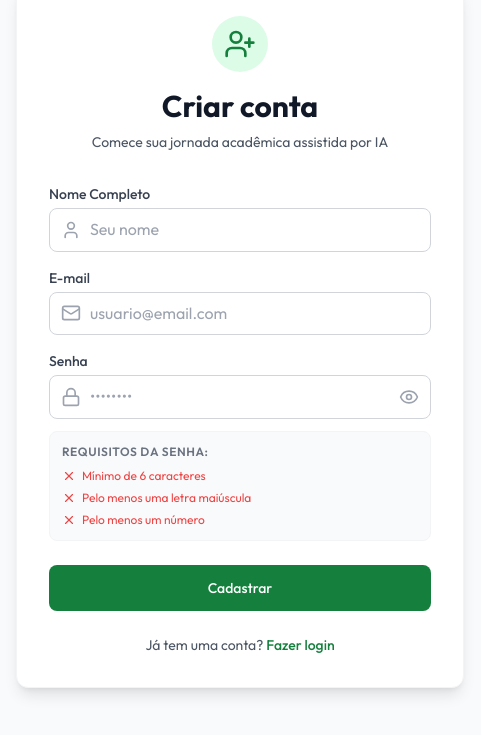
Test case: Register validation › rejects submission when the password does not meet all security criteria
The width and height of the screenshot is (481, 735).
Type "Ana Silva" into the field labelled "Nome Completo".
click(240, 230); type("Ana Silva")  # box [49,208,431,252]
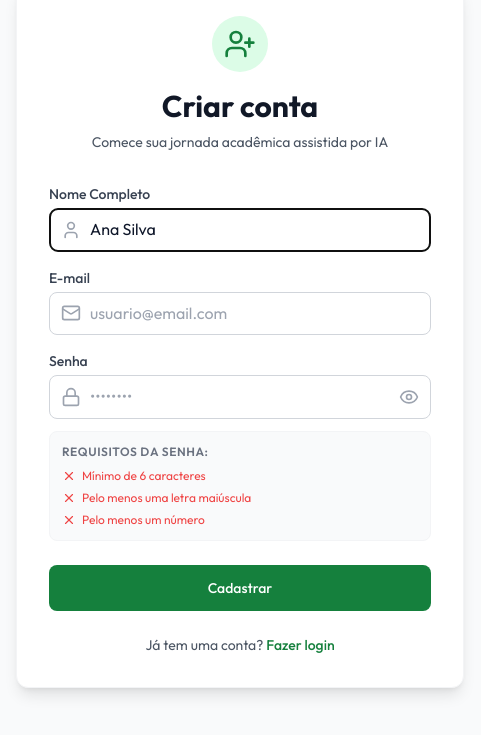
Type "ana@a.com" into the field labelled "E-mail".
click(240, 313); type("ana@a.com")  # box [49,292,431,335]
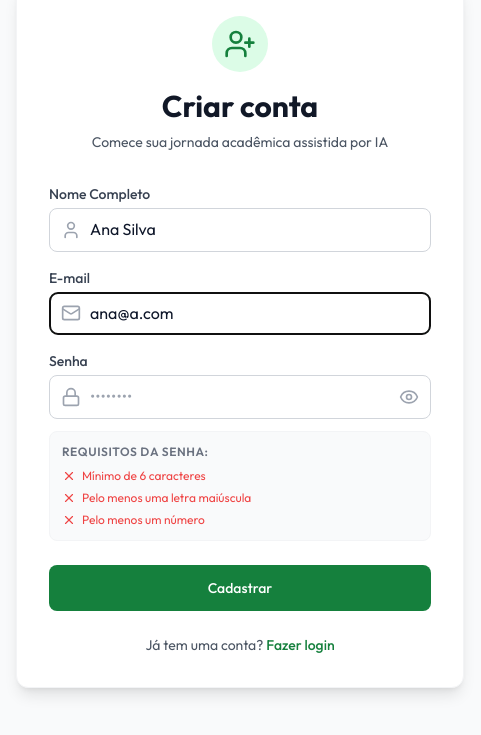
Type "weakpass" into the password field labelled "Senha".
click(240, 397); type("weakpass")  # box [49,375,431,419]
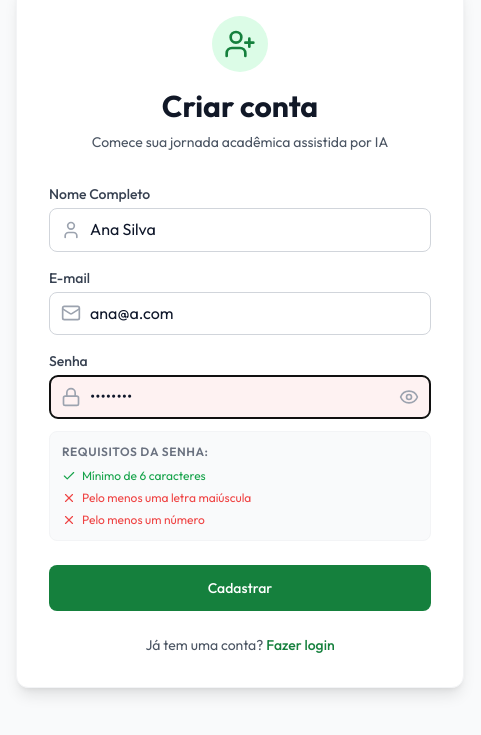
Click the button "Cadastrar".
click(240, 588)  # box [49,565,431,611]
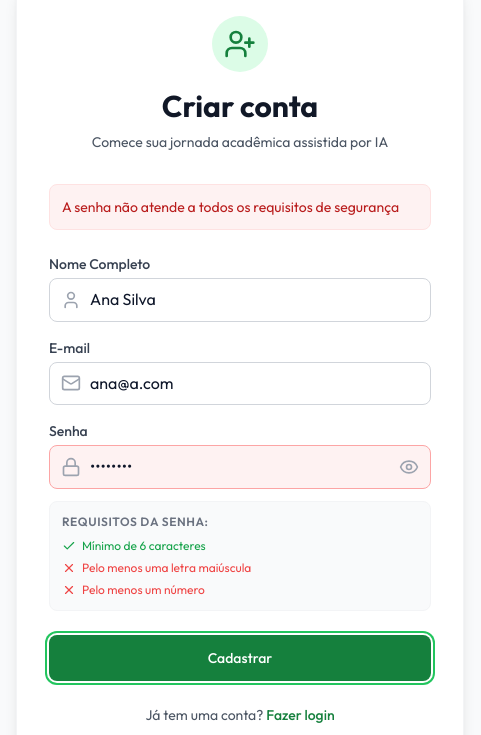
expect the text "A senha não atende a todos os requisitos de segurança" is shown: met, box [49,184,431,230]
